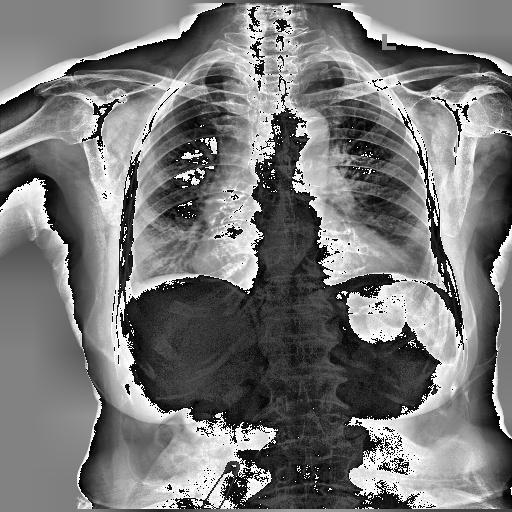0- Aortic enlargement: (262, 108, 331, 156), (272, 107, 328, 154), (284, 106, 330, 156)
11- Pleural thickening: (344, 61, 390, 99), (117, 276, 139, 304)
3- Cardiomegaly: (186, 222, 416, 280), (191, 240, 409, 300), (194, 229, 404, 278)
